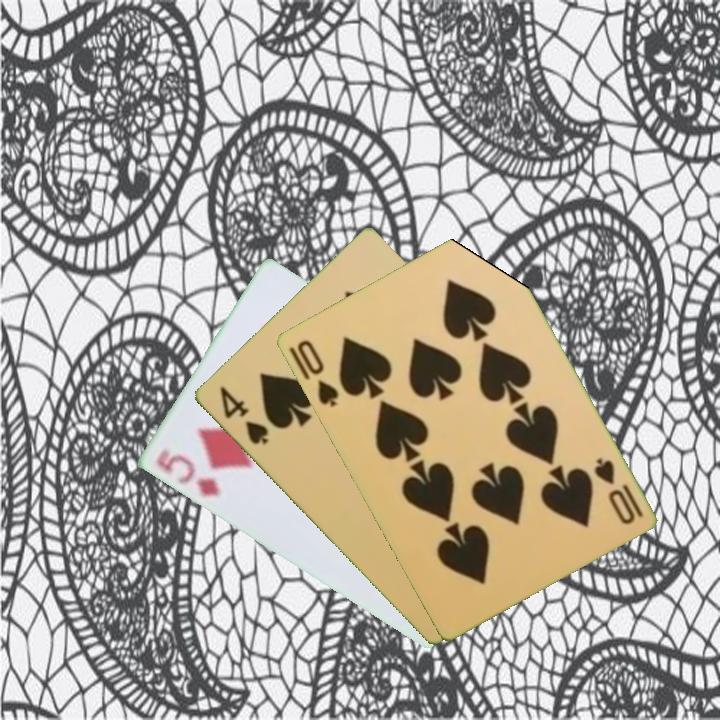10s: (589, 454, 645, 528), (292, 335, 341, 410)
4s: (215, 382, 271, 448)
5d: (151, 445, 222, 500)
